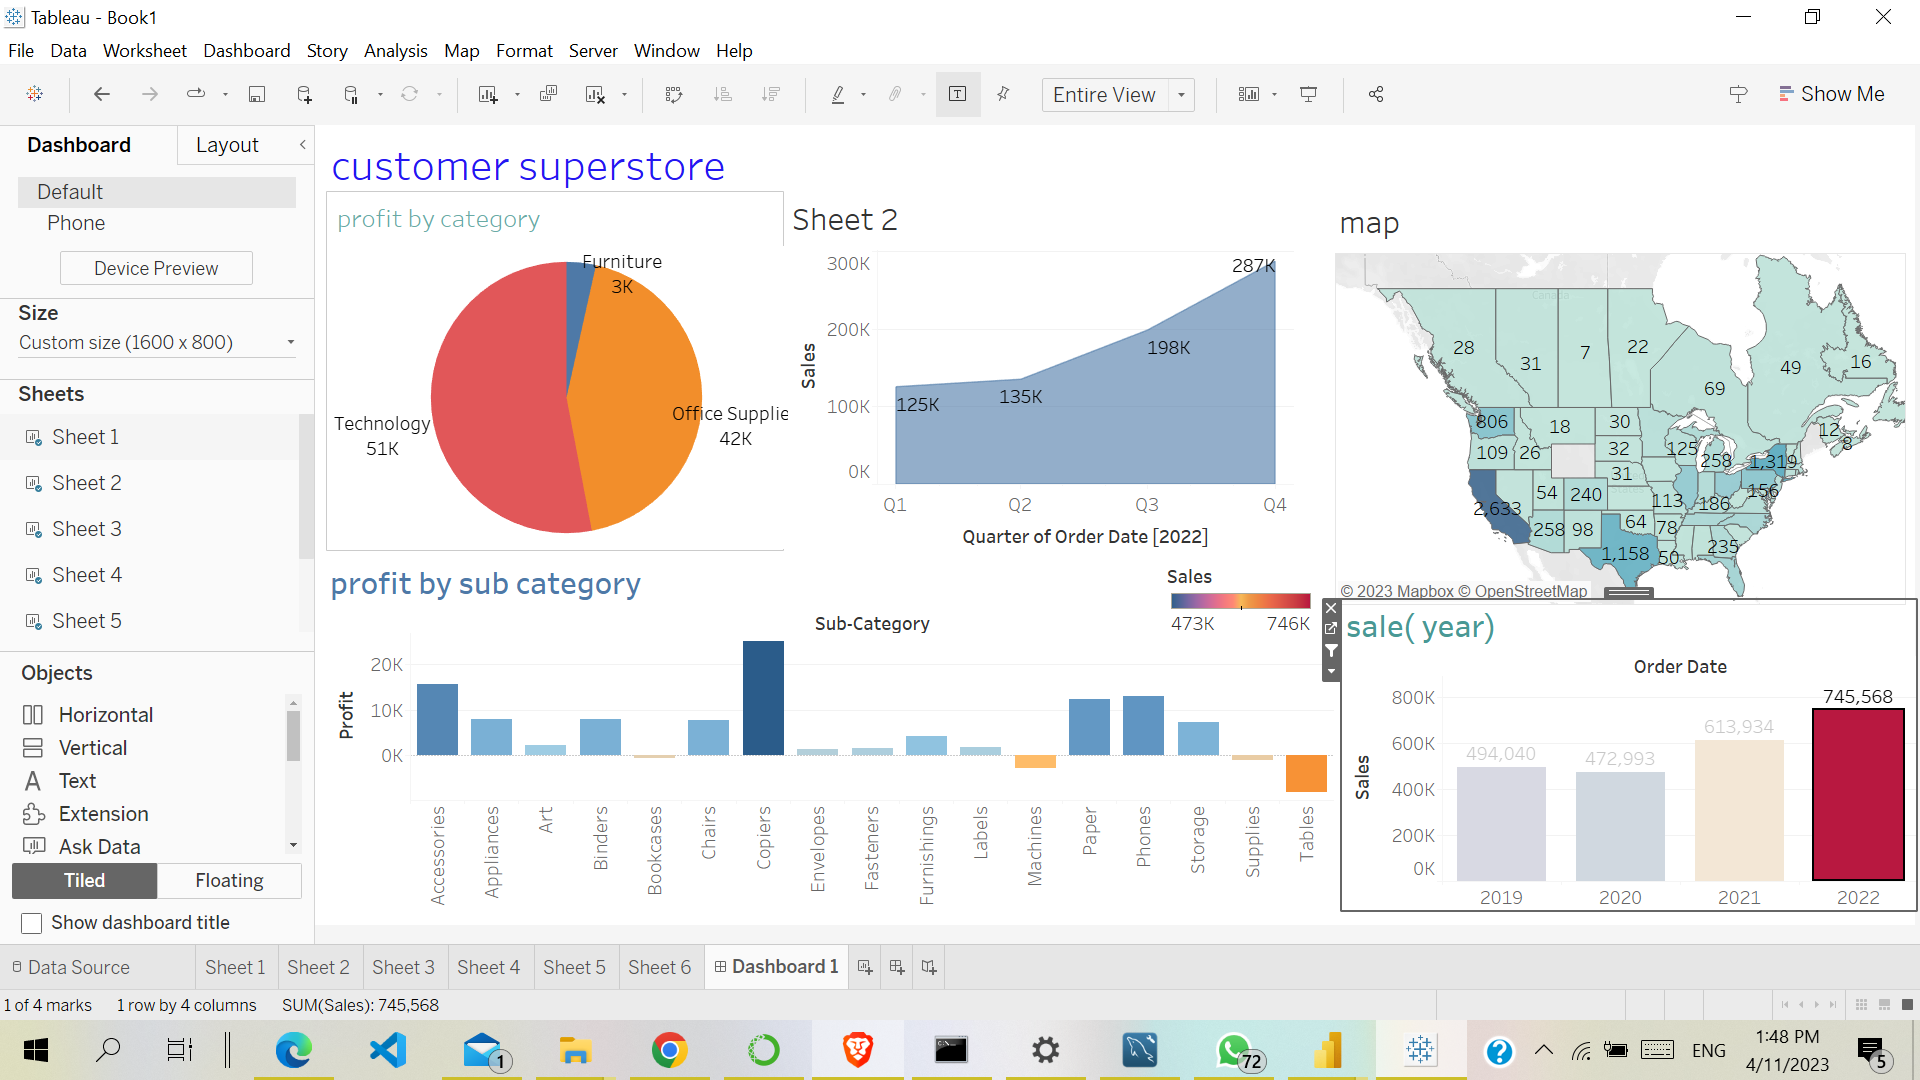

The dashboard page shown, as its layout file describes it:
{"tool":"tableau","page":{"name":"Dashboard 1","canvas":[1600,800],"ordinal":0},"visuals":[{"type":"text","box":[8,8,555.1,62]},{"type":"worksheet","title":"Sheet 2","mark":"Area","rows":["Sales"],"cols":["Order Date"],"box":[473,68,506,362]},{"type":"worksheet","title":"Sheet 5","mark":"Automatic","box":[1020,71,571,409]},{"type":"worksheet","title":"Sheet 3","mark":"Pie","box":[18,72,467,352]},{"type":"worksheet","title":"Sheet 4","mark":"Automatic","rows":["Profit"],"cols":["Sub-Category"],"box":[11,432,1008,363]},{"type":"legend","title":"Sheet 1","param":"[federated.1qmurrq0bg32ea1ewgrz412fpmkg].[sum:Sales:qk]","box":[852,438,148,100]},{"type":"worksheet","title":"Sheet 1","mark":"Bar","rows":["Sales"],"cols":["Order Date"],"box":[1027,475,576,310]}]}

Visuals, with their boxes on the page's 1600x800 design canvas (x1, y1, x2, y2). These are canvas units, not pixel positions in the 1920x1080 screenshot, which may show the page scaled, cropped or inside an application window:
text: (8, 8, 563, 70)
"Sheet 2" worksheet (Area marks): (473, 68, 979, 430)
"Sheet 5" worksheet: (1020, 71, 1591, 480)
"Sheet 3" worksheet (Pie marks): (18, 72, 485, 424)
"Sheet 4" worksheet: (11, 432, 1019, 795)
"Sheet 1" legend: (852, 438, 1000, 538)
"Sheet 1" worksheet (Bar marks): (1027, 475, 1603, 785)
